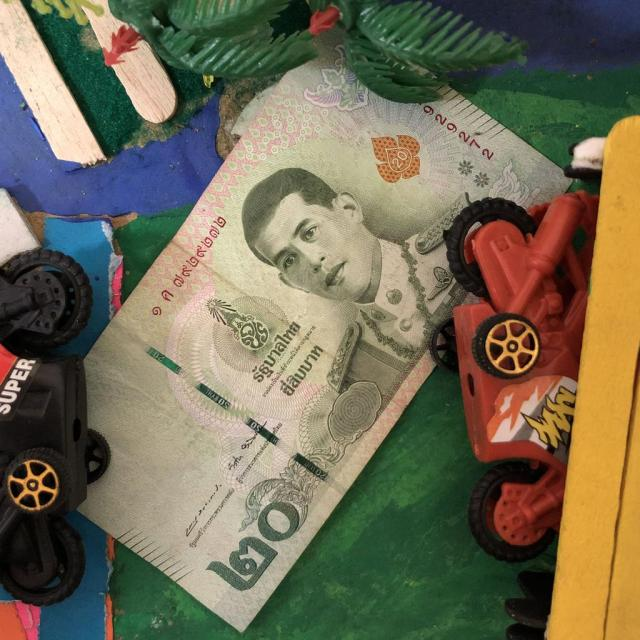THAI20: (80, 31, 569, 631)
